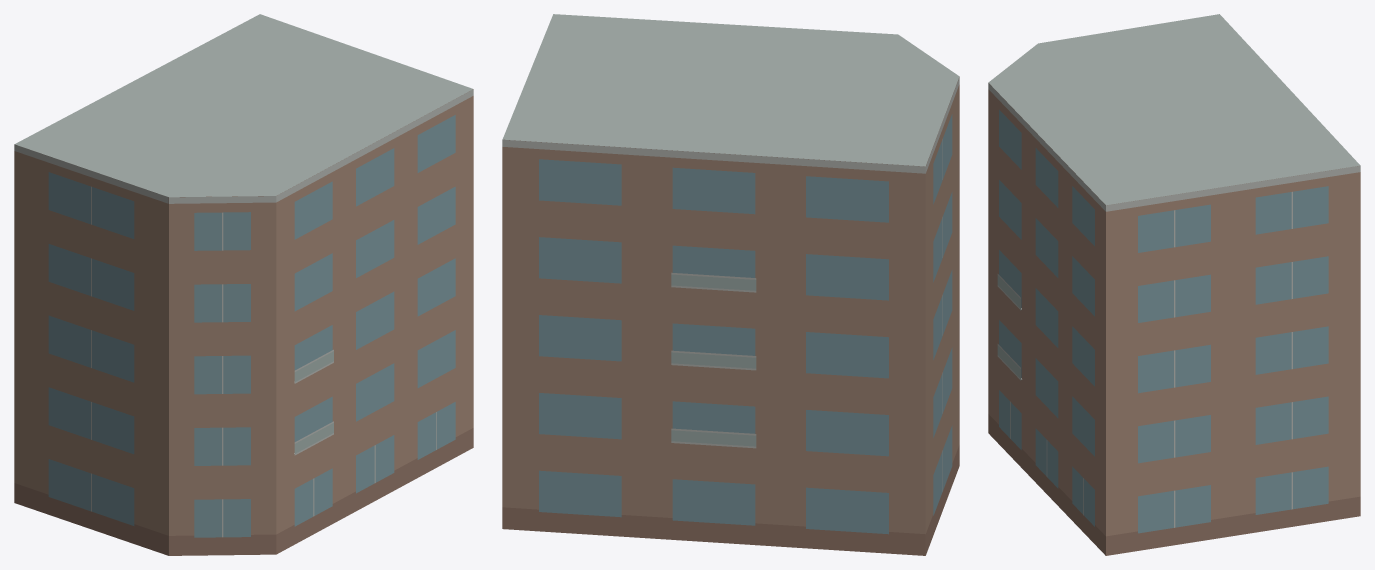
Rendered from survey-upis-32866931.glb.
3 views of the same model, side by side, from view 1: azimuth 30°, elevation 25°; view 2: azimuth 150°, elevation 25°; view 3: azimuth 270°, elevation 25° (orthographic). The views are drawn at different scales.
Parts seen in each view (by area): view 1: survey-upis-32866931.tmp; view 2: survey-upis-32866931.tmp; view 3: survey-upis-32866931.tmp.
Boxes of the visible parts, x1=… form: survey-upis-32866931.tmp: x1=14, y1=14, x2=473, y2=555; survey-upis-32866931.tmp: x1=502, y1=14, x2=959, y2=555; survey-upis-32866931.tmp: x1=988, y1=14, x2=1360, y2=555.
Bounding box in the file's own units: 15.46 × 13.2 × 12.72.
